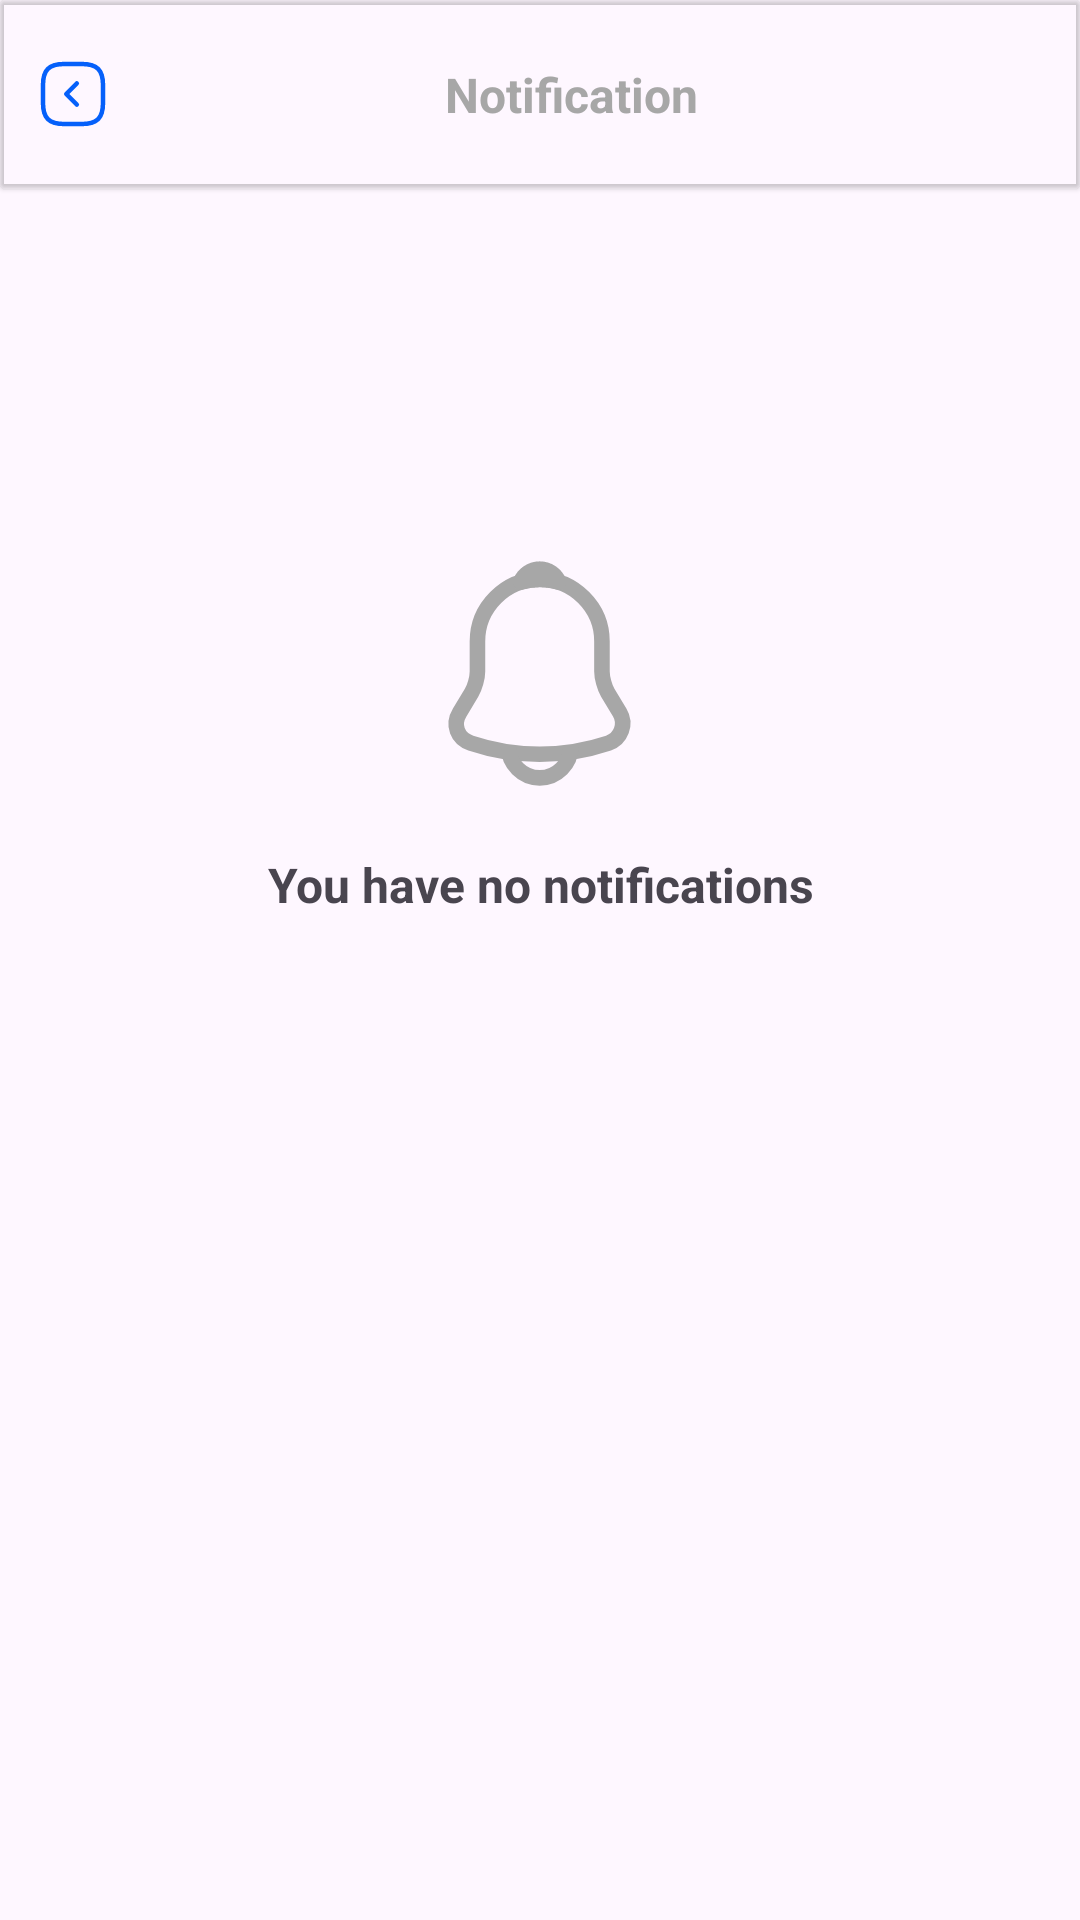

Screen size 1080 x 1920. Icon name, then its center in pixels as (x,y):
notnotifi: (539,673)
